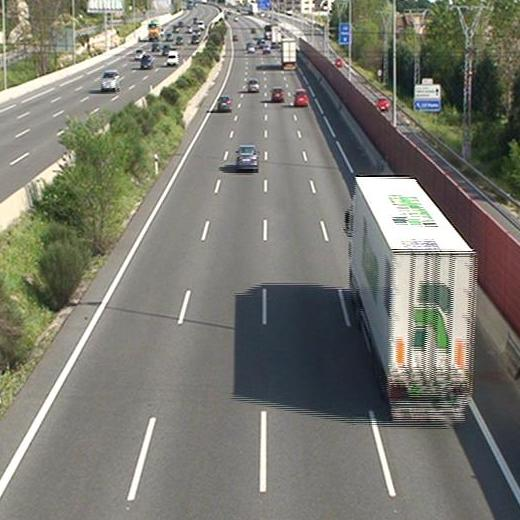car: (236, 146, 259, 169), (216, 96, 231, 111), (294, 90, 308, 106), (271, 89, 285, 101), (247, 80, 259, 92)
truck: (351, 177, 475, 420), (282, 37, 297, 70)
